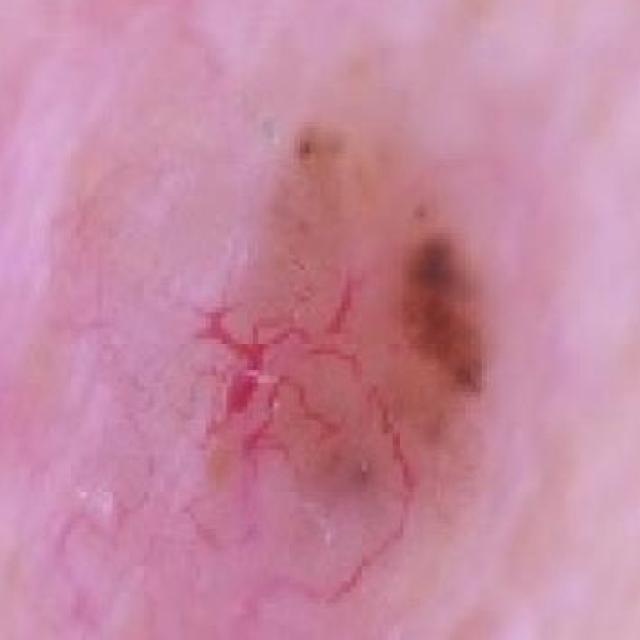BCC: (76, 22, 640, 640)
